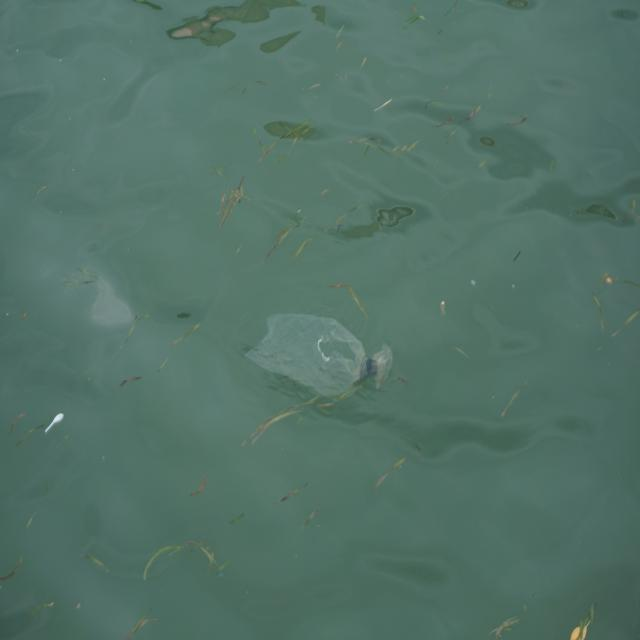Kantong Plastik: (247, 308, 395, 409)
